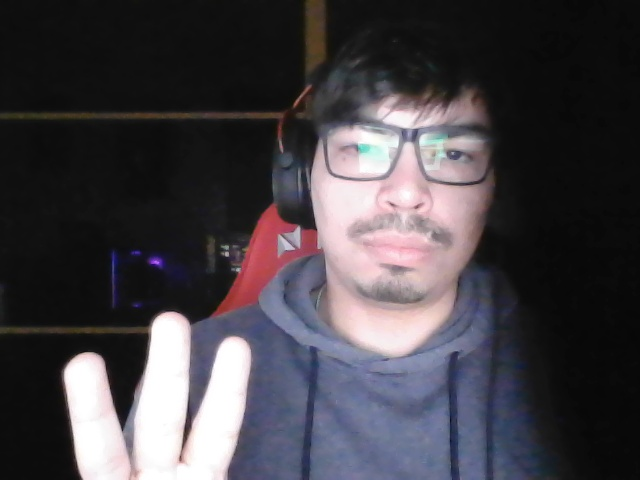three: (38, 305, 274, 480)
